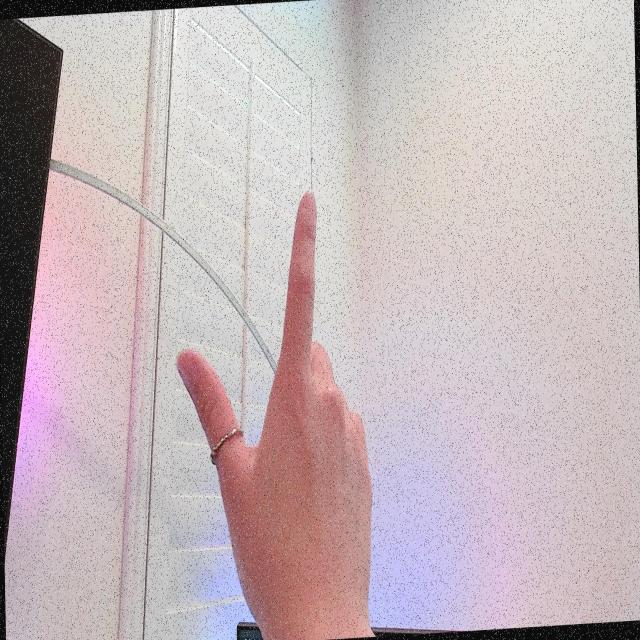L: (169, 175, 387, 629)
